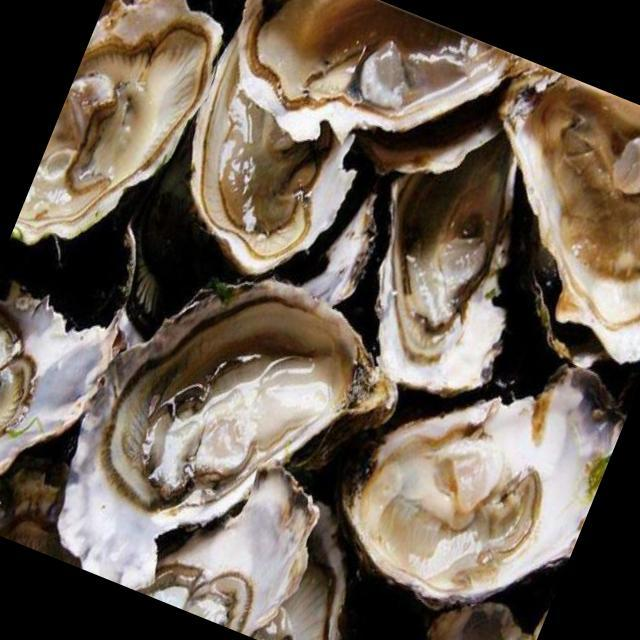Oyster-Open: (28, 229, 424, 640), (309, 292, 639, 640), (322, 88, 586, 420), (6, 0, 245, 292), (431, 58, 640, 376), (202, 0, 523, 207), (135, 427, 340, 640), (0, 264, 126, 523), (372, 568, 544, 640)
